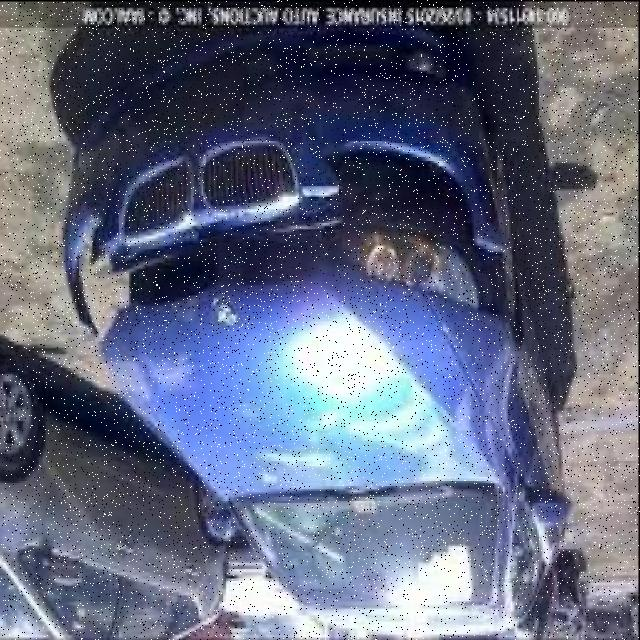damage: (74, 142, 502, 348)
